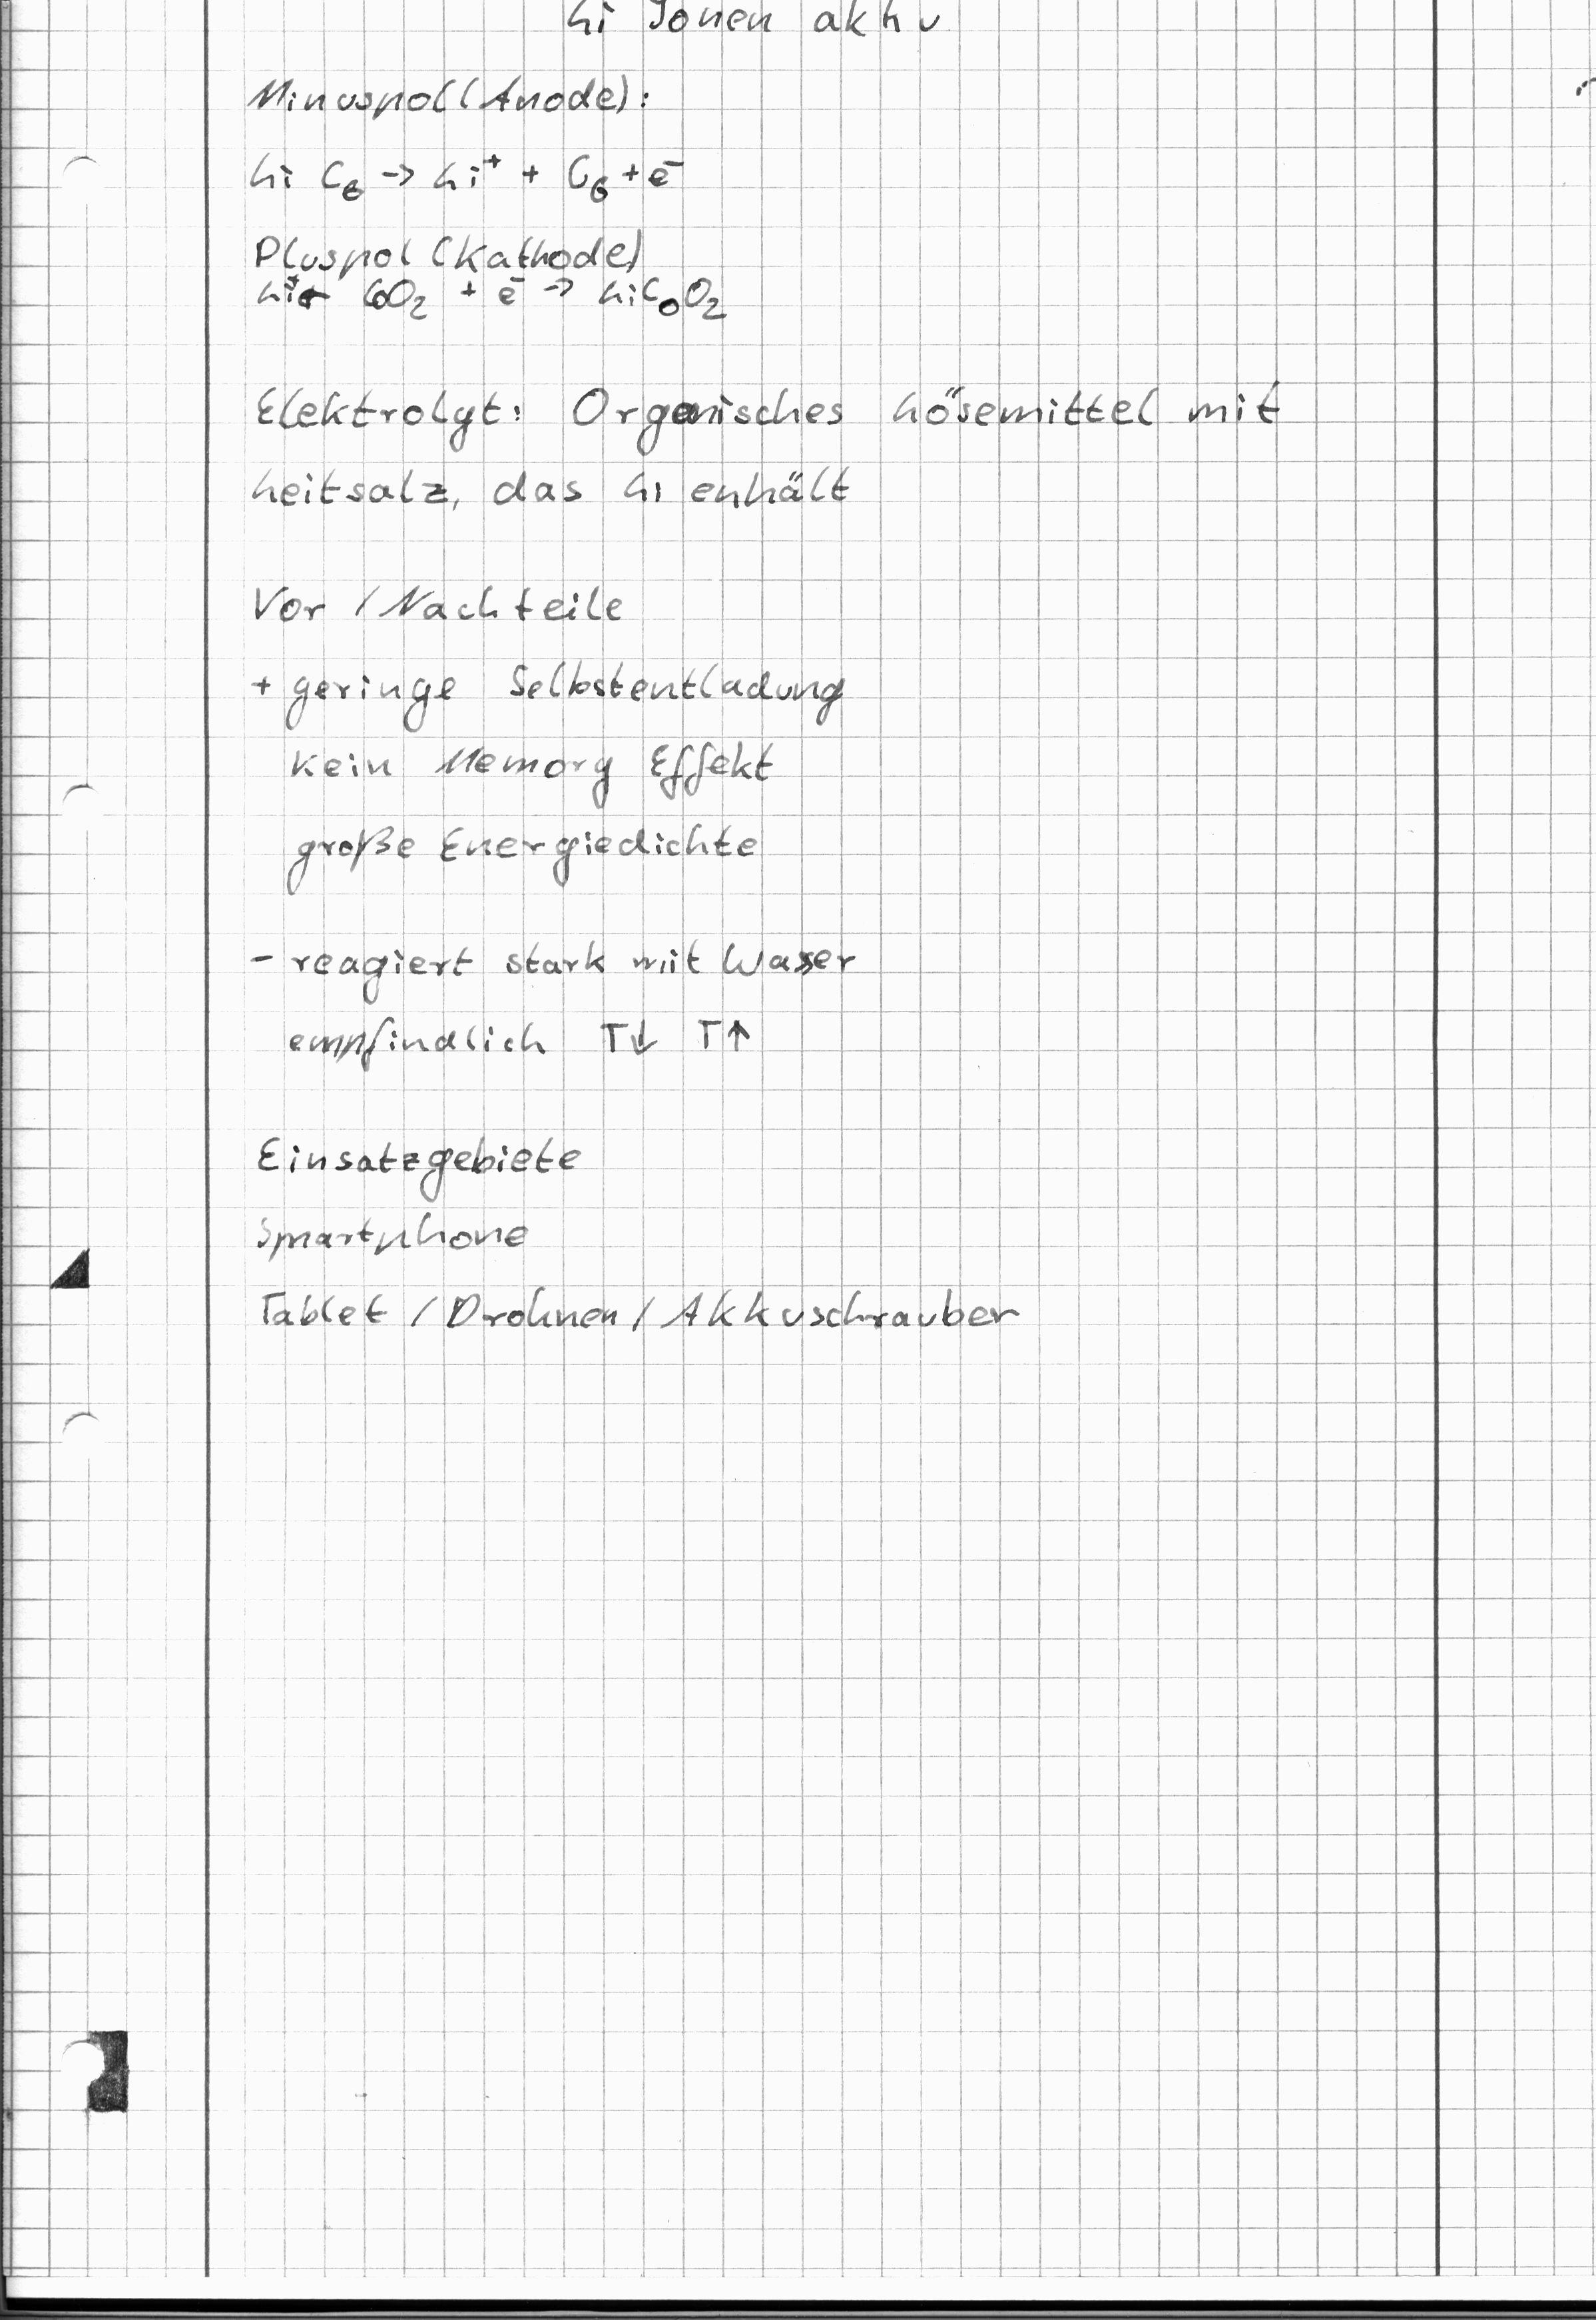word: (242, 1125, 1033, 1353), (238, 368, 1295, 520), (240, 655, 856, 902), (244, 934, 870, 1087), (237, 67, 698, 212), (244, 219, 748, 339), (233, 560, 644, 645)
